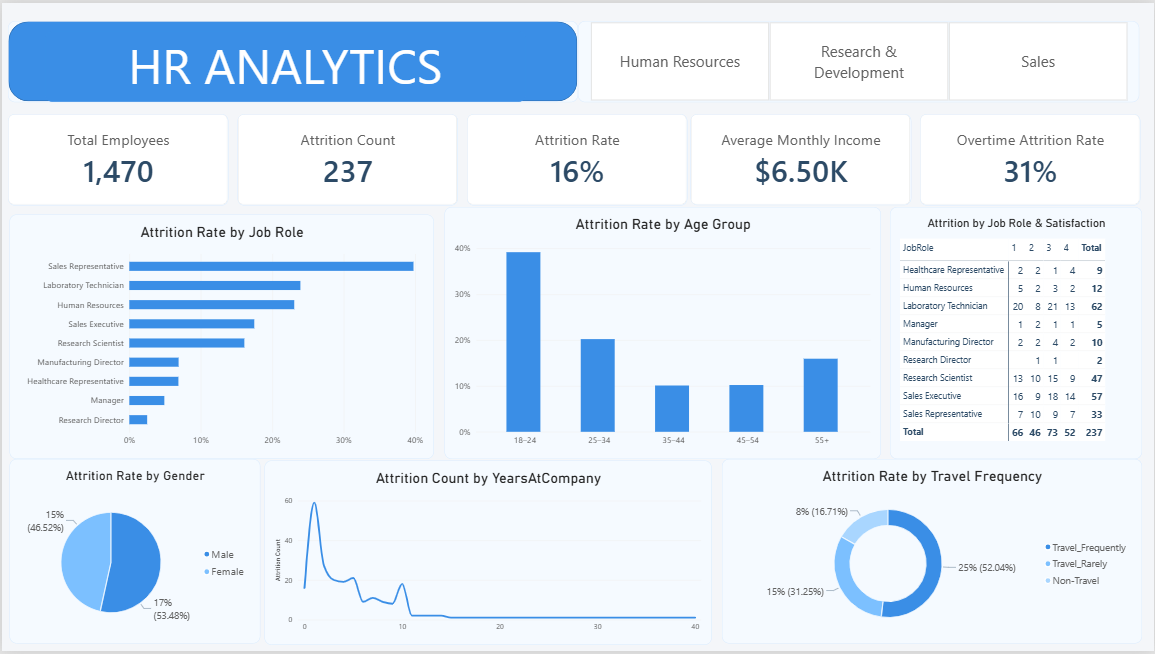

The page's visual inventory and layout, read from the dashboard file:
{"tool":"powerbi","page":{"name":"Page 1","canvas":[1920,1080],"ordinal":0},"visuals":[{"type":"shape","box":[10,30,950,135],"z":0},{"type":"textbox","box":[72.5,50,800,92.5],"z":1000},{"type":"slicer","fields":{"Values":["hr_attrition_clean.Department"]},"box":[982.5,30,912.5,135],"z":2000},{"type":"cardVisual","fields":{"Data":["hr_attrition_clean.Total Employees Display"]},"box":[10,185,367.5,130],"z":3000},{"type":"cardVisual","fields":{"Data":["hr_attrition_clean.Avg Monthly Income"]},"box":[1160,185,350,132.5],"z":4000},{"type":"cardVisual","fields":{"Data":["hr_attrition_clean.Attrition Rate"]},"box":[775,185,367.5,130],"z":5000},{"type":"cardVisual","fields":{"Data":["hr_attrition_clean.Attrition Count"]},"box":[392.5,185,367.5,130],"z":6000},{"type":"cardVisual","fields":{"Data":["hr_attrition_clean.Overtime Attrition Rate"]},"box":[1530,185,367.5,132.5],"z":7000},{"type":"clusteredBarChart","title":"Attrition Rate by Job Role","fields":{"Category":["hr_attrition_clean.JobRole"],"Y":["hr_attrition_clean.Attrition Rate"]},"box":[12.5,340,707.5,420],"z":8000},{"type":"pivotTable","title":"Attrition by Job Role & Satisfaction","fields":{"Columns":["hr_attrition_clean.JobSatisfaction"],"Rows":["hr_attrition_clean.JobRole"],"Values":["hr_attrition_clean.Attrition Count"]},"box":[1480,340,420,420],"z":9000},{"type":"donutChart","title":"Attrition Rate by Travel Frequency","fields":{"Category":["hr_attrition_clean.BusinessTravel"],"Y":["hr_attrition_clean.Attrition Rate"]},"box":[1200,780,700,287.5],"z":10000},{"type":"lineChart","fields":{"Category":["hr_attrition_clean.YearsAtCompany"],"Y":["hr_attrition_clean.Attrition Count"]},"box":[437.5,780,745,287.5],"z":11000},{"type":"clusteredColumnChart","title":"Attrition Rate by Age Group","fields":{"Category":["hr_attrition_clean.AgeGroup"],"Y":["hr_attrition_clean.Attrition Rate"]},"box":[737.5,340,727.5,420],"z":12000},{"type":"pieChart","fields":{"Category":["hr_attrition_clean.Gender"],"Y":["hr_attrition_clean.Attrition Rate"]},"box":[12.5,780,417.5,287.5],"z":13000}]}

Visuals, with their boxes in screenshot pixels (x1, y1, x2, y2), scaled from the page's 1920x1080 canvas onto the 1155x654 screenshot:
shape: 6 18 578 100
textbox: 44 30 525 86
slicer - hr_attrition_clean.Department: 591 18 1140 100
cardVisual - hr_attrition_clean.Total Employees Display: 6 112 227 191
cardVisual - hr_attrition_clean.Avg Monthly Income: 698 112 908 192
cardVisual - hr_attrition_clean.Attrition Rate: 466 112 687 191
cardVisual - hr_attrition_clean.Attrition Count: 236 112 457 191
cardVisual - hr_attrition_clean.Overtime Attrition Rate: 920 112 1141 192
"Attrition Rate by Job Role" clusteredBarChart: 8 206 433 460
"Attrition by Job Role & Satisfaction" pivotTable: 890 206 1143 460
"Attrition Rate by Travel Frequency" donutChart: 722 472 1143 646
lineChart - hr_attrition_clean.YearsAtCompany x hr_attrition_clean.Attrition Count: 263 472 711 646
"Attrition Rate by Age Group" clusteredColumnChart: 444 206 881 460
pieChart - hr_attrition_clean.Gender x hr_attrition_clean.Attrition Rate: 8 472 259 646
